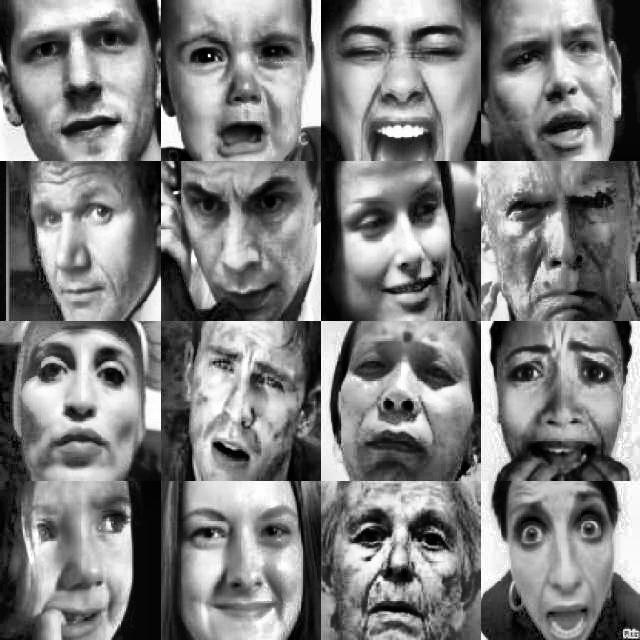angry: (503, 28, 623, 154), (502, 176, 626, 296), (185, 179, 297, 299)
fear: (195, 335, 306, 466), (505, 505, 617, 627)
happy: (336, 15, 456, 151), (189, 493, 300, 633), (27, 342, 129, 471), (342, 206, 454, 317)
neutral: (25, 17, 148, 148), (33, 175, 139, 312), (344, 512, 453, 640)
sad: (15, 498, 133, 638), (514, 342, 620, 480), (190, 28, 296, 154), (353, 342, 457, 460)
